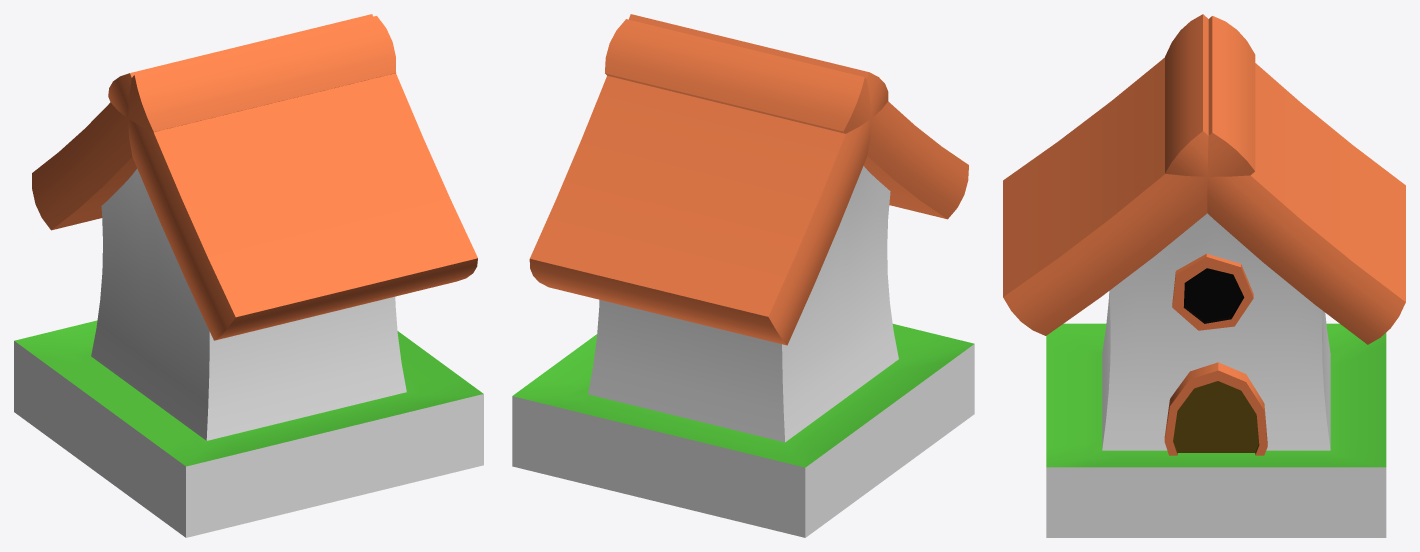
The model's file is house_cartoon.fbx.
3 views of the same model, side by side, from view 1: azimuth 30°, elevation 25°; view 2: azimuth 150°, elevation 25°; view 3: azimuth 270°, elevation 25° (orthographic).
Parts seen in each view (by area): view 1: house_base, roof_1, roof; view 2: house_base, roof, roof_1; view 3: house_base, roof_1, roof, Cylinder_2, Cylinder, Cylinder_1, Cylinder_3.
Boxes of the visible parts, x1,y1,x2,y2 form: house_base: (14,168,483,537); roof_1: (108,14,477,340); roof: (32,16,396,230); house_base: (512,166,974,537); roof: (529,14,888,345); roof_1: (605,19,968,219); house_base: (1046,213,1386,537); roof_1: (1003,16,1255,335); roof: (1165,14,1405,344); Cylinder_2: (1173,381,1259,454); Cylinder: (1164,362,1267,455); Cylinder_1: (1183,268,1244,323); Cylinder_3: (1172,254,1253,330).
Bounding box in the file's own units: 271 × 346 × 321.
